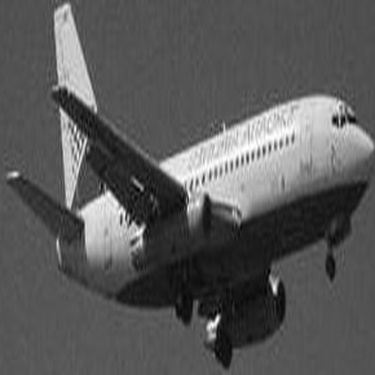airplane: (1, 3, 370, 369)
